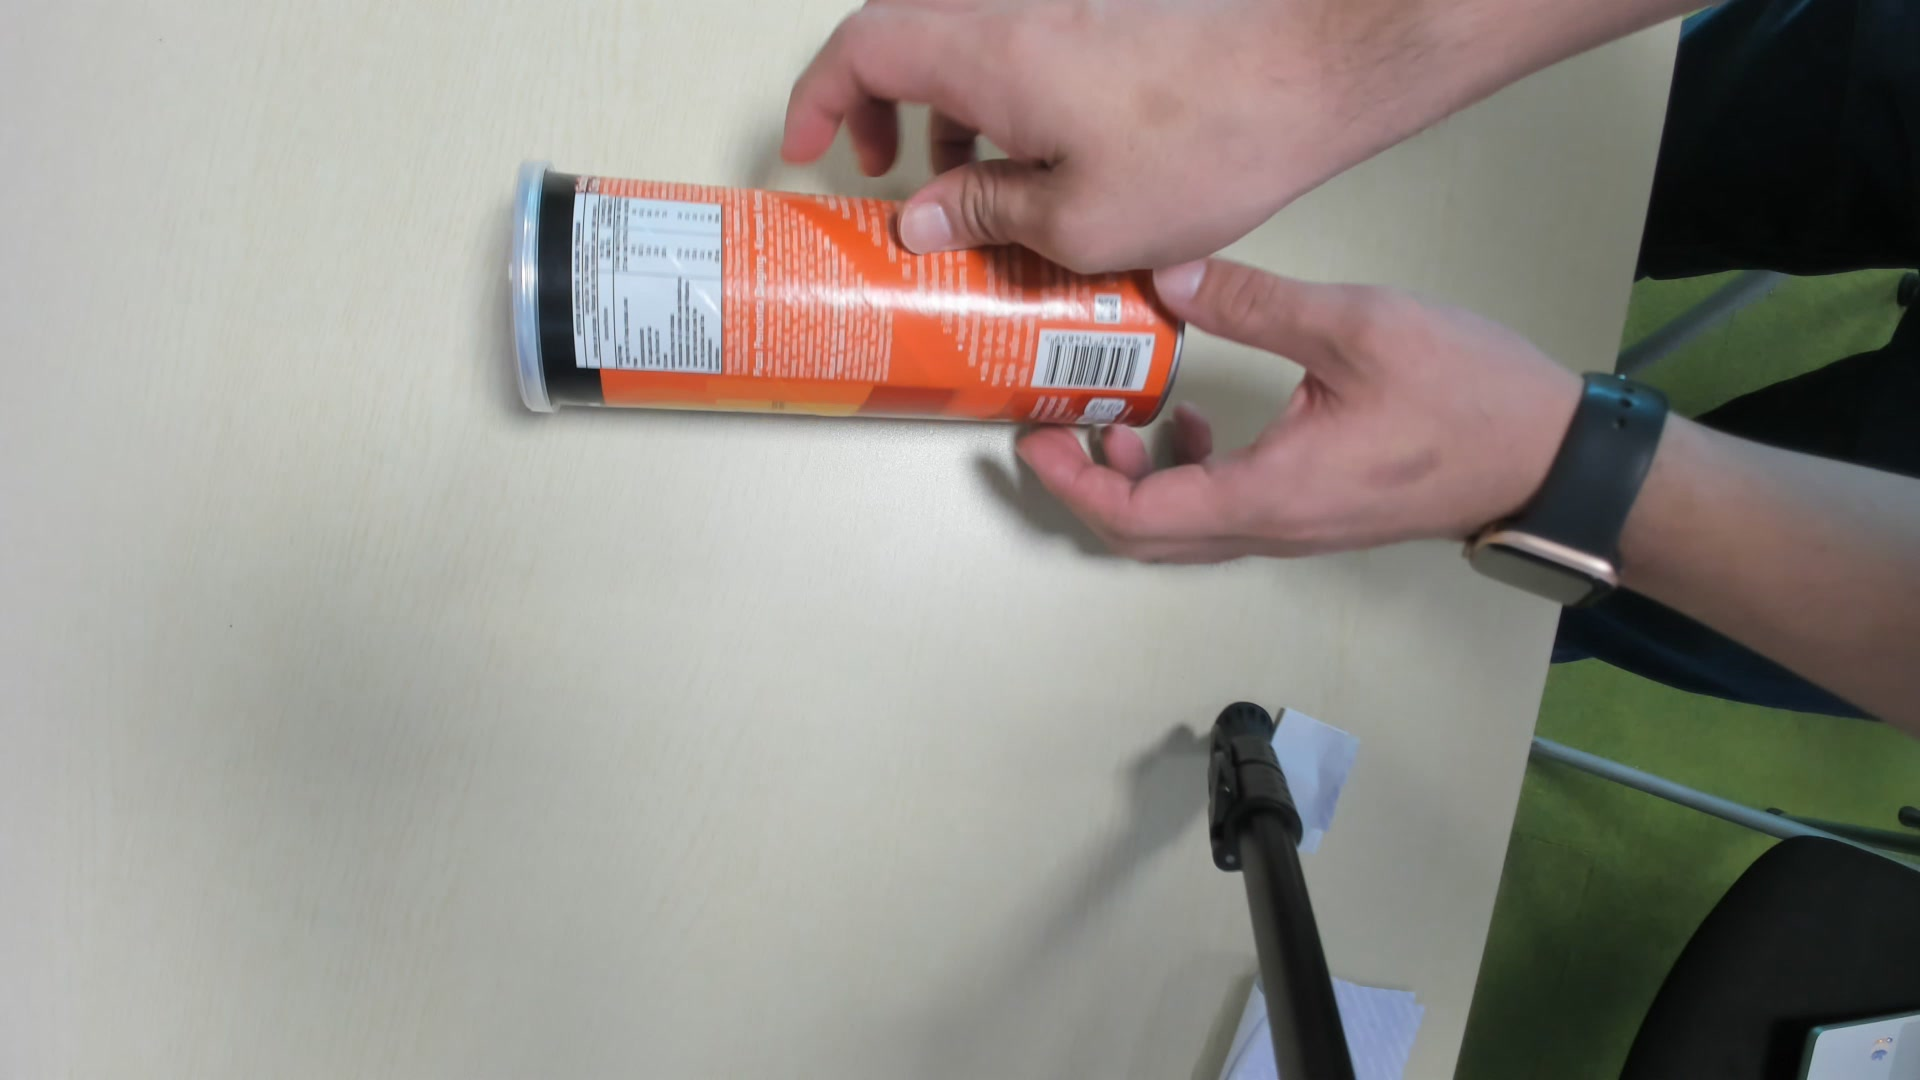PotatoChipsKeropok_0-99g_Halal_NonHealthy: (498, 167, 1193, 425)
